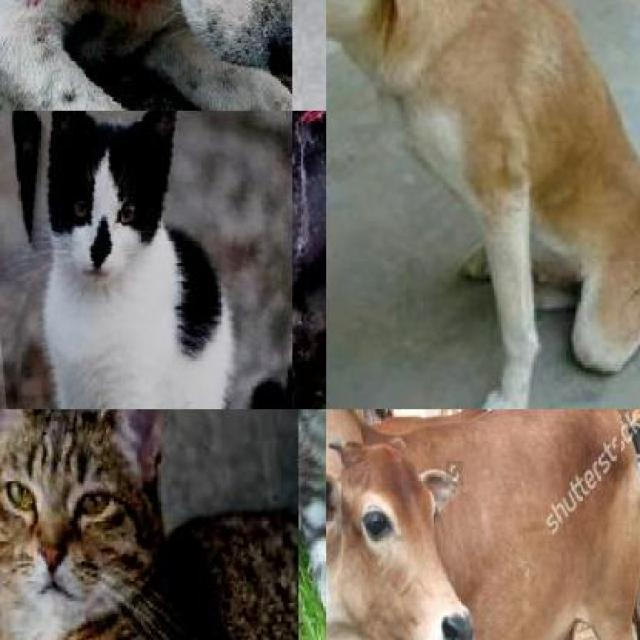cat: (0, 110, 292, 409), (0, 409, 298, 640)
cow: (326, 409, 640, 640)
dog: (326, 0, 640, 357), (0, 0, 292, 111)
injured: (547, 201, 640, 409)
